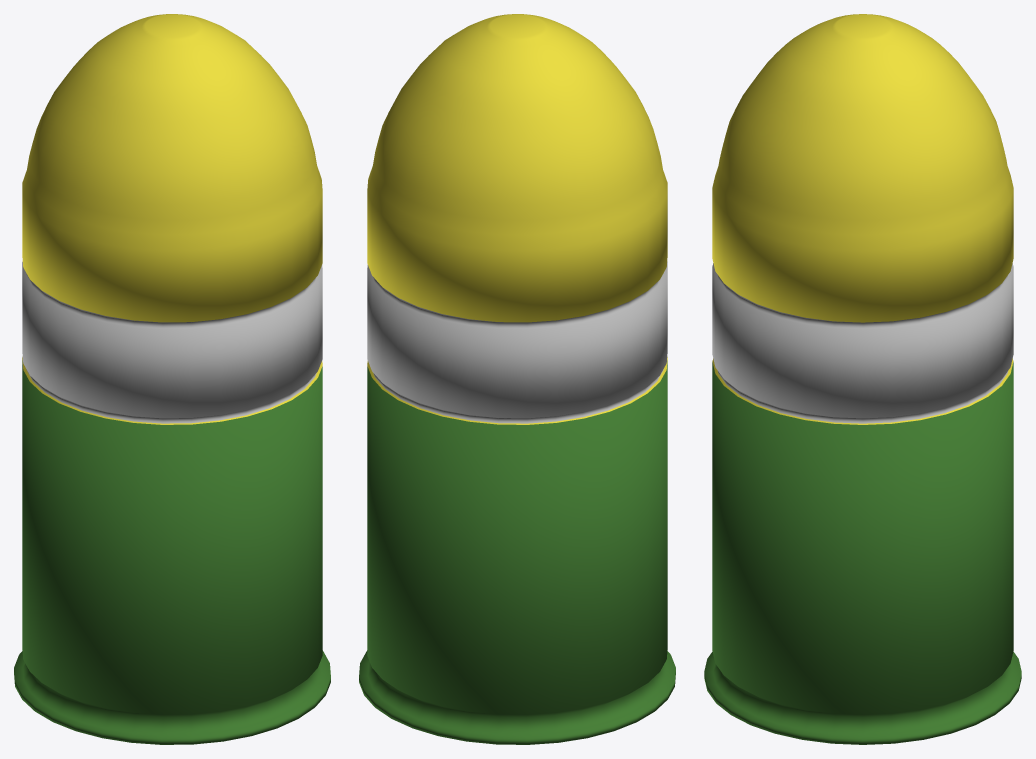
The model's file is 40mm grenade fired(1).fbx.
3 renders of one model, left to right at view 1: azimuth 30°, elevation 25°; view 2: azimuth 150°, elevation 25°; view 3: azimuth 270°, elevation 25°, orthographic.
Parts seen in each view (by area): view 1: Cylinder; view 2: Cylinder; view 3: Cylinder.
Part boxes in pixels (left/top/right/bottom): Cylinder: left=14, top=14, right=330, bottom=744; Cylinder: left=359, top=14, right=675, bottom=744; Cylinder: left=704, top=14, right=1021, bottom=744.
Bounding box in the file's own units: 4.12 × 9.33 × 4.12.
